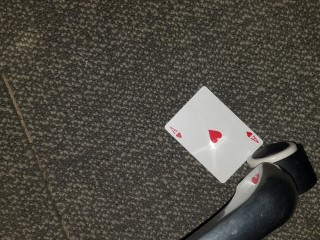AceOfHearts: (163, 85, 264, 185)
